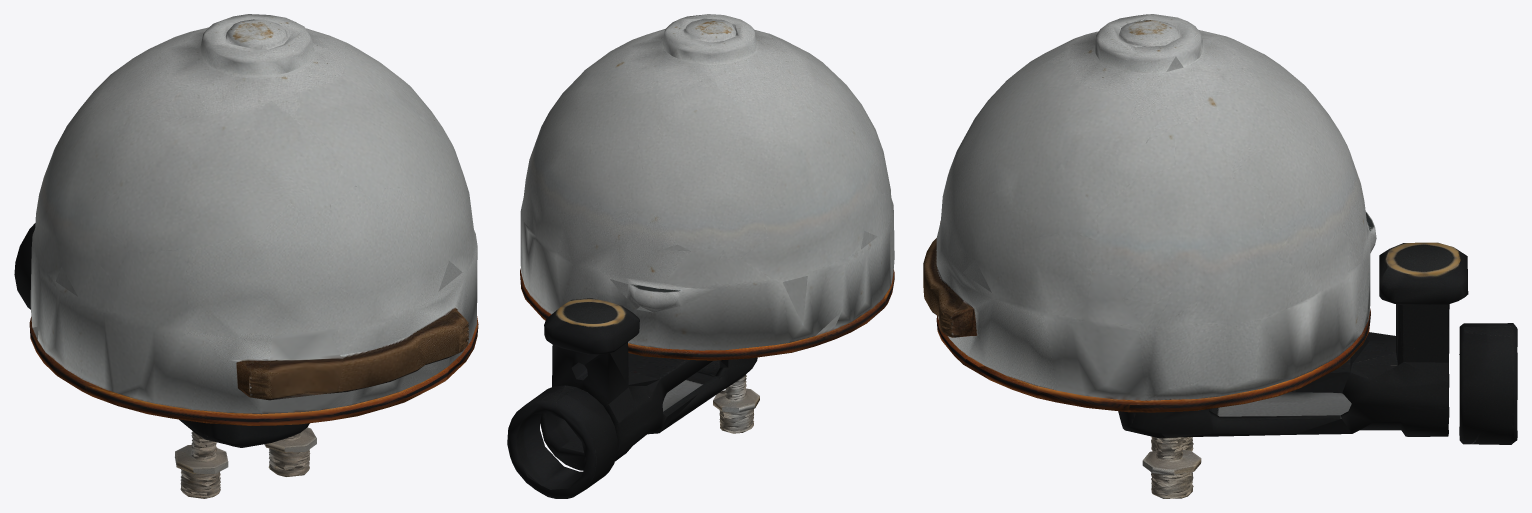
The model's file is BicycleBell.fbx.
3 renders of one model, left to right at view 1: azimuth 30°, elevation 25°; view 2: azimuth 150°, elevation 25°; view 3: azimuth 270°, elevation 25°, orthographic. The views are drawn at different scales.
Parts seen in each view (by area): view 1: Mesh_0; view 2: Mesh_0; view 3: Mesh_0.
Part boxes in pixels (<box>): Mesh_0: <box>14,14,478,498</box>; Mesh_0: <box>507,14,894,498</box>; Mesh_0: <box>923,14,1517,498</box>.
Bounding box in the file's own units: 138 × 156 × 190.
1 material, 1 textured.
